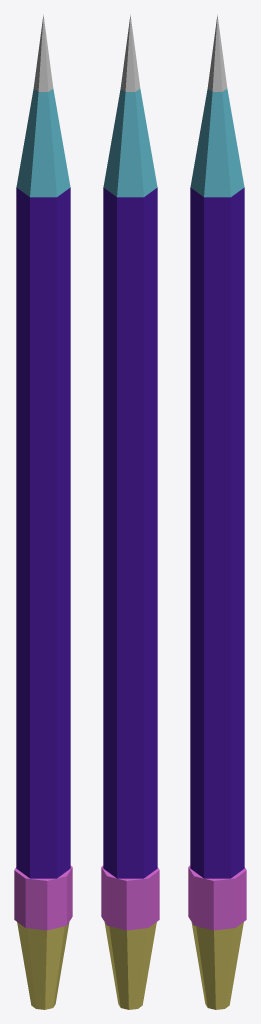
Rendered from Tool_CosmicPencil.fbx.
3 renders of one model, left to right at view 1: azimuth 30°, elevation 25°; view 2: azimuth 150°, elevation 25°; view 3: azimuth 330°, elevation 25°, orthographic.
Parts seen in each view (by area): view 1: Tool_CosmicPencil; view 2: Tool_CosmicPencil; view 3: Tool_CosmicPencil.
Part boxes in pixels (x1,y1,x2,y2): Tool_CosmicPencil: [14, 14, 72, 1009]; Tool_CosmicPencil: [101, 14, 159, 1009]; Tool_CosmicPencil: [188, 14, 246, 1009].
Size of the model in its own units: 0.0798 by 1.6 by 0.0798.
